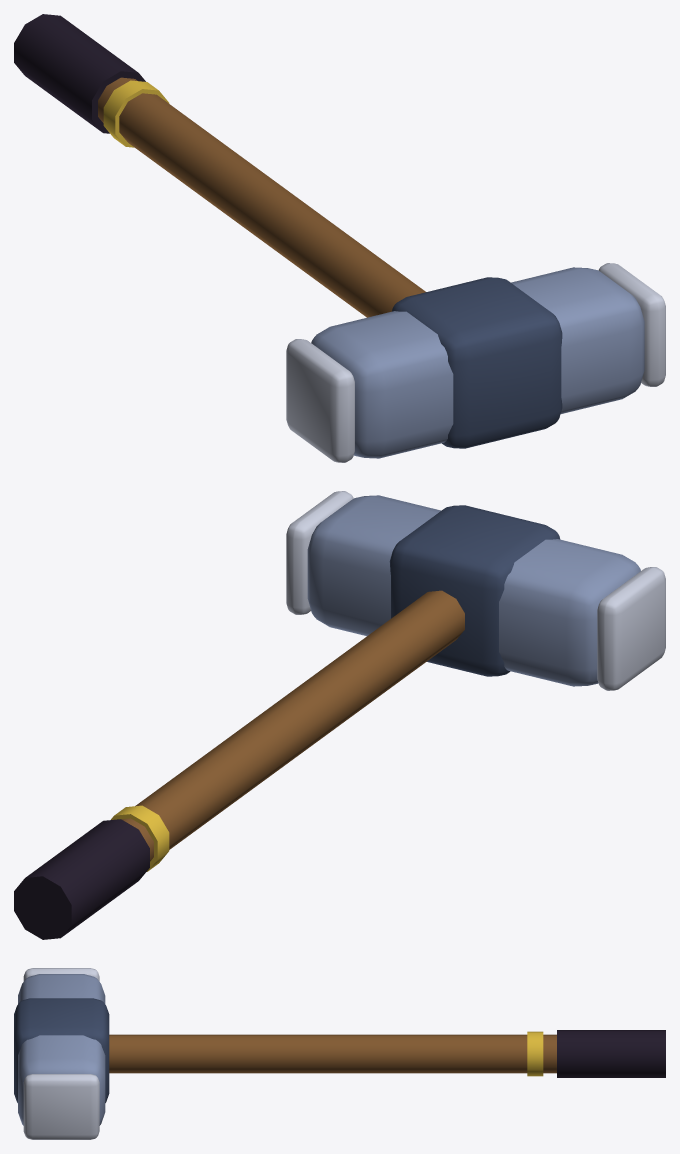
File: masse_de_voie.glb
3 views of the same model, one above another, from view 1: azimuth 30°, elevation 25°; view 2: azimuth 150°, elevation 25°; view 3: azimuth 270°, elevation 25° (orthographic). The views are drawn at different scales.
Parts seen in each view (by area): view 1: masse_de_voie_mesh; view 2: masse_de_voie_mesh; view 3: masse_de_voie_mesh.
Boxes of the visible parts, x1,y1,x2,y2 form: masse_de_voie_mesh: (14, 14, 665, 462); masse_de_voie_mesh: (14, 491, 665, 939); masse_de_voie_mesh: (14, 968, 665, 1139).
Size of the model in its own units: 0.495 by 0.165 by 1.2.
